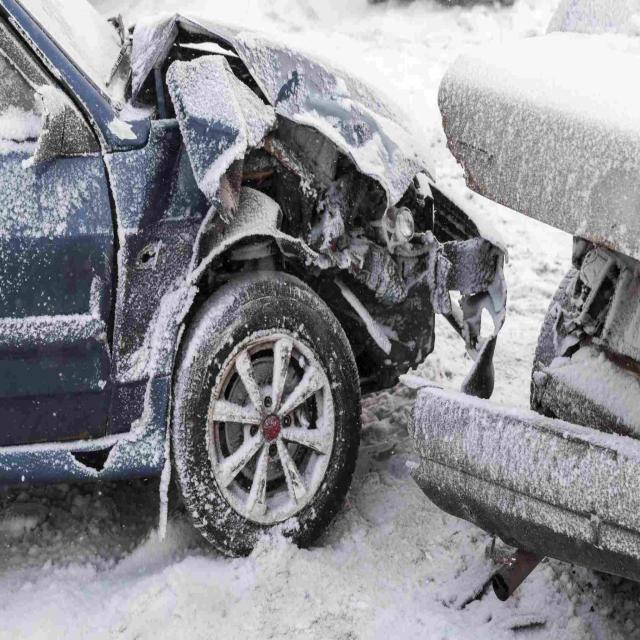Accident: (0, 0, 509, 562)
